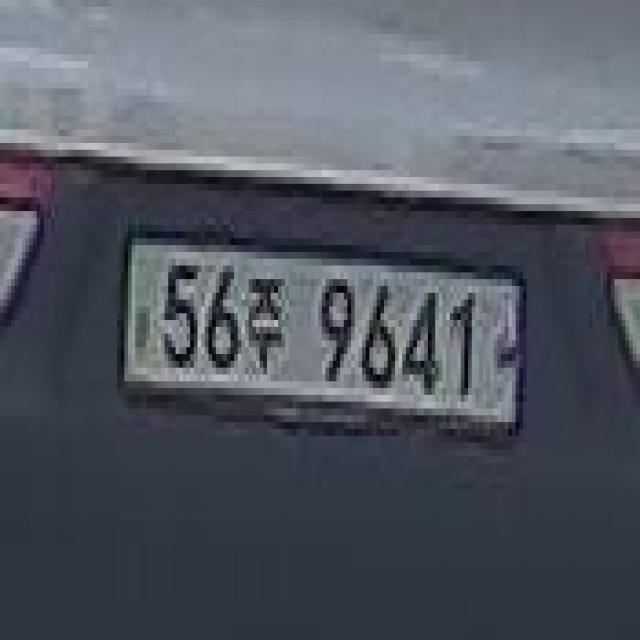1: (447, 284, 482, 402)
4: (402, 278, 440, 398)
5: (158, 256, 200, 366)
6: (360, 271, 398, 393), (206, 256, 240, 375)
9: (314, 268, 356, 389)
ju: (244, 262, 286, 378)
license_plate: (113, 224, 535, 451)
